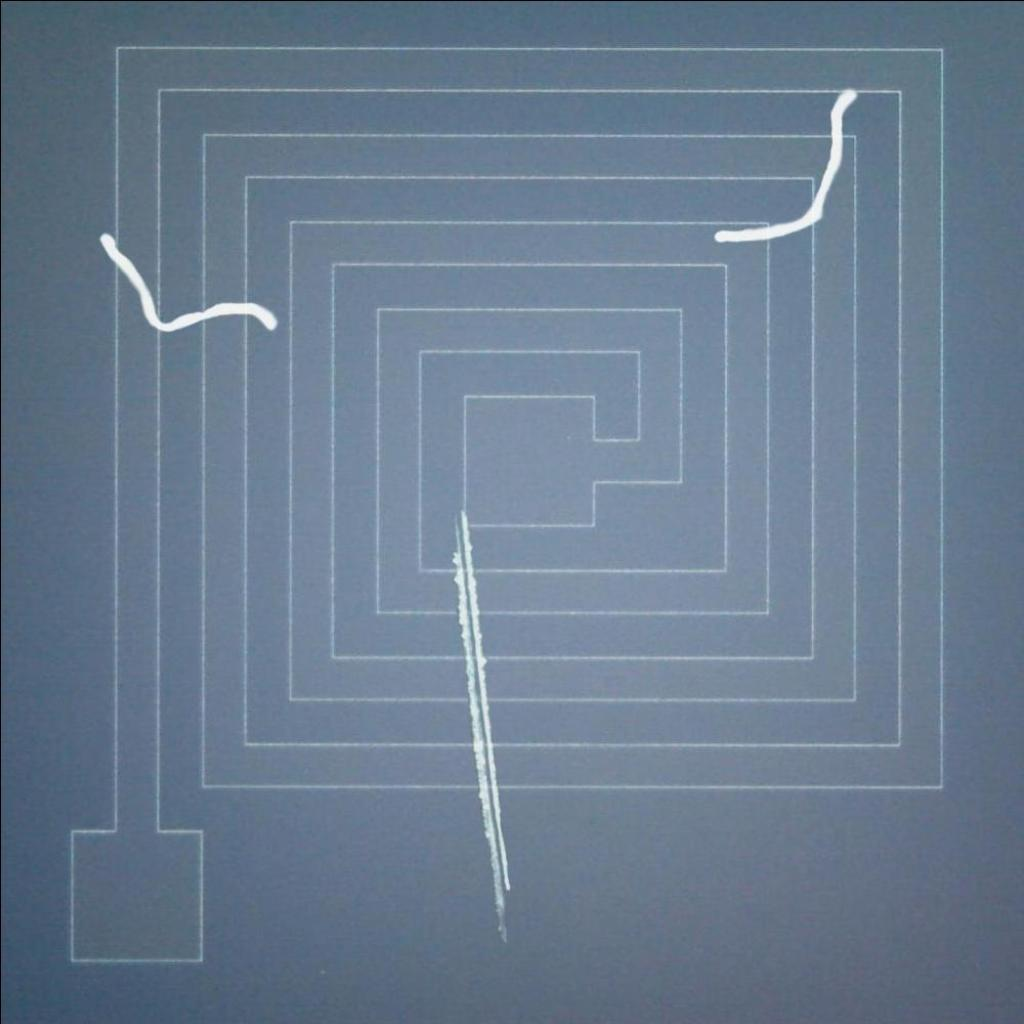line: (704, 78, 865, 256), (93, 224, 281, 340)
scratch: (438, 502, 523, 949)
